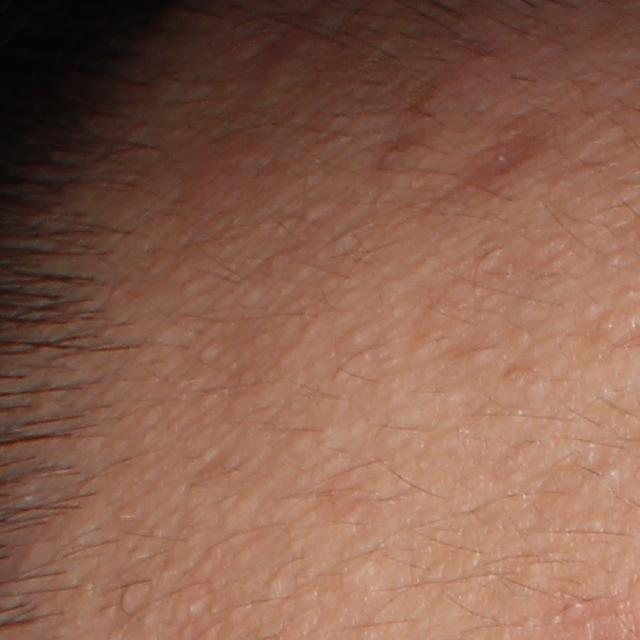comedo: (341, 322, 369, 349), (181, 599, 205, 621), (197, 343, 220, 364), (304, 202, 322, 221)
